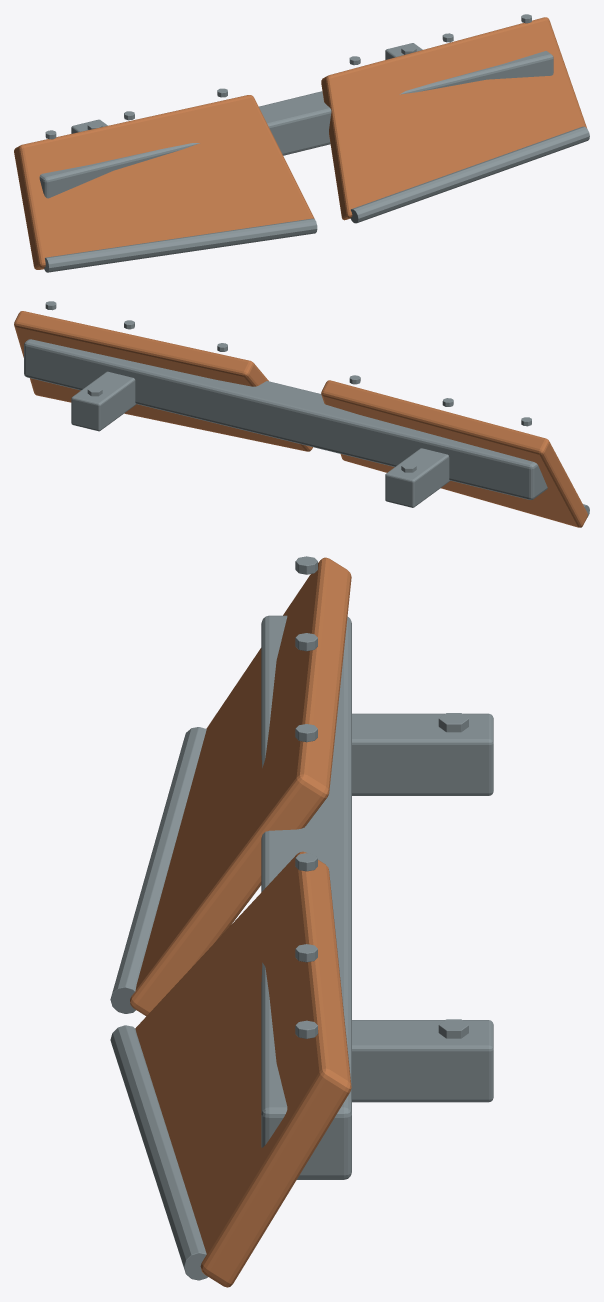
File: ram-module.fbx
3 renders of one model, top to bottom at view 1: azimuth 30°, elevation 25°; view 2: azimuth 150°, elevation 25°; view 3: azimuth 270°, elevation 25°, orthographic. The views are drawn at different scales.
Visible parts, largest first — view 1: GEO-ram_angled_blade, GEO-ram_angled_blade.001, GEO-ram_cross_member, GEO-ram_replaceable_edge, GEO-ram_replaceable_edge.001; view 2: GEO-ram_cross_member, GEO-ram_angled_blade, GEO-ram_angled_blade.001, GEO-ram_chassis_extension, GEO-ram_chassis_extension.001; view 3: GEO-ram_angled_blade.001, GEO-ram_angled_blade, GEO-ram_cross_member, GEO-ram_chassis_extension.001, GEO-ram_chassis_extension, GEO-ram_replaceable_edge.001, GEO-ram_replaceable_edge.
Boxes of the visible parts, box(x1,y1,x2,y2) form: GEO-ram_angled_blade: box(14, 95, 314, 269); GEO-ram_angled_blade.001: box(321, 17, 586, 220); GEO-ram_cross_member: box(39, 51, 553, 198); GEO-ram_replaceable_edge: box(44, 218, 317, 272); GEO-ram_replaceable_edge.001: box(350, 126, 589, 223); GEO-ram_cross_member: box(24, 339, 547, 499); GEO-ram_angled_blade: box(321, 380, 587, 527); GEO-ram_angled_blade.001: box(14, 311, 312, 451); GEO-ram_chassis_extension: box(385, 448, 450, 507); GEO-ram_chassis_extension.001: box(71, 371, 136, 431); GEO-ram_angled_blade.001: box(135, 851, 351, 1287); GEO-ram_angled_blade: box(130, 557, 351, 1016); GEO-ram_cross_member: box(261, 615, 351, 1179); GEO-ram_chassis_extension.001: box(352, 1020, 493, 1102); GEO-ram_chassis_extension: box(352, 713, 493, 795); GEO-ram_replaceable_edge.001: box(110, 1025, 207, 1280); GEO-ram_replaceable_edge: box(110, 727, 206, 1013).
Size of the model in its own units: 2.24 by 0.476 by 0.6767.
